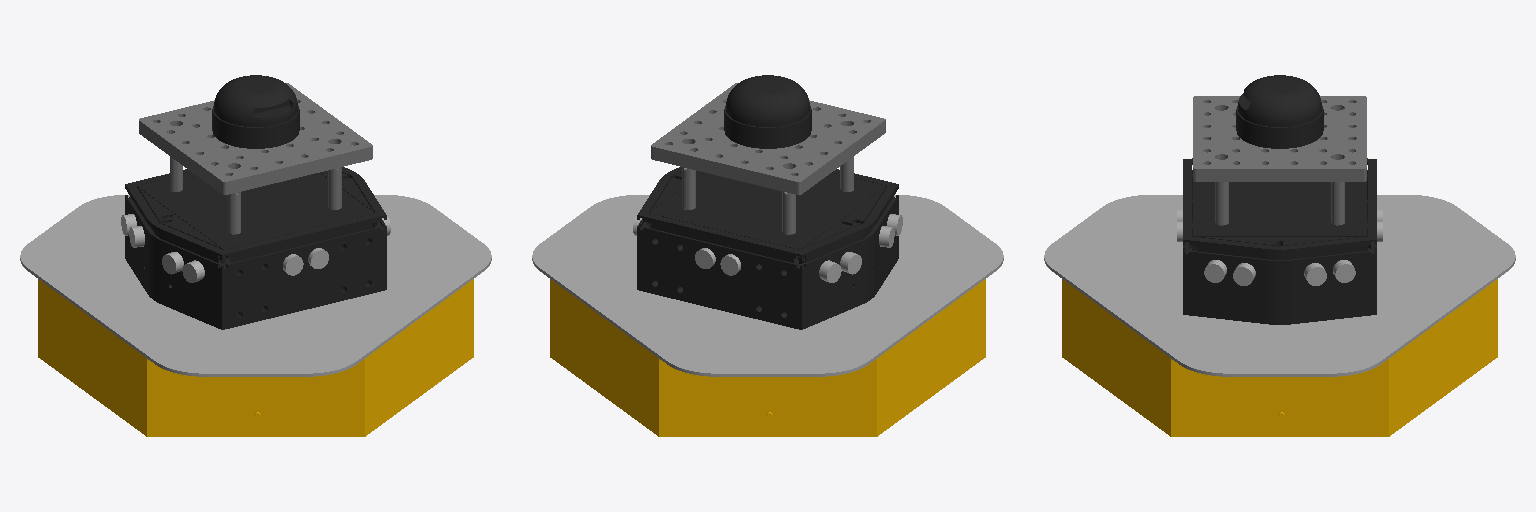
The robot description file, URDF, robot "urdfbot":
<?xml version="1.0"?>
<robot name="urdfbot">
        
	<material name="light_gray">
		<color rgba="0.7 0.7 0.7 1"/>
	</material>
	
	<material name="dark_gray">
		<color rgba="0.2 0.2 0.2 1"/>
	</material>
	
	<material name="yellow">
		<color rgba="1.0 0.76 0.04 1"/>
	</material>
	
	<material name="gray">
		<color rgba="0.5 0.5 0.5 1"/>
	</material>
	
	

  <link name="base_link">
    <visual>
	<origin rpy="0 0 0" xyz="0 0 0" />
      <geometry>
        <mesh filename="package://mobi_tri/meshes/01_chassis_bottom.stl" scale="0.001 0.001 0.001"/>
      </geometry>
	<material name="yellow"/>
    </visual>
  </link>
  
  <link name="chassis_top_link">
    <visual>
	<origin rpy="0 0 0" xyz="0 0 0" />
      <geometry>
        <mesh filename="package://mobi_tri/meshes/02_chassis_top.stl" scale="0.001 0.001 0.001"/>
      </geometry>
	<material name="light_gray"/>
    </visual>
  </link>
  
  <link name="housing_link">
    <visual>
	<origin rpy="0 0 0" xyz="0 0 0" />
      <geometry>
        <mesh filename="package://mobi_tri/meshes/03_housing.stl" scale="0.001 0.001 0.001"/>
      </geometry>
	<material name="dark_gray"/>
    </visual>
  </link>
  
  <link name="sonic1_link">
    <visual>
	<origin rpy="0 0 0" xyz="0 0 0" />
      <geometry>
        <mesh filename="package://mobi_tri/meshes/04_ultrasonic.stl" scale="0.001 0.001 0.001"/>
      </geometry>
	<material name="light_gray"/>
    </visual>
  </link>
  
  <link name="sonic2_link">
    <visual>
	<origin rpy="0 0 0" xyz="0 0 0" />
      <geometry>
        <mesh filename="package://mobi_tri/meshes/04_ultrasonic.stl" scale="0.001 0.001 0.001"/>
      </geometry>
	<material name="light_gray"/>
    </visual>
  </link>
  
  <link name="sonic3_link">
    <visual>
	<origin rpy="0 0 0" xyz="0 0 0" />
      <geometry>
        <mesh filename="package://mobi_tri/meshes/04_ultrasonic.stl" scale="0.001 0.001 0.001"/>
      </geometry>
	<material name="light_gray"/>
    </visual>
  </link>
  
  <link name="sonic4_link">
    <visual>
	<origin rpy="0 0 0" xyz="0 0 0" />
      <geometry>
        <mesh filename="package://mobi_tri/meshes/04_ultrasonic.stl" scale="0.001 0.001 0.001"/>
      </geometry>
	<material name="light_gray"/>
    </visual>
  </link>
  
  <link name="sonic5_link">
    <visual>
	<origin rpy="0 0 0" xyz="0 0 0" />
      <geometry>
        <mesh filename="package://mobi_tri/meshes/04_ultrasonic.stl" scale="0.001 0.001 0.001"/>
      </geometry>
	<material name="light_gray"/>
    </visual>
  </link>
  
  <link name="sonic6_link">
    <visual>
	<origin rpy="0 0 0" xyz="0 0 0" />
      <geometry>
        <mesh filename="package://mobi_tri/meshes/04_ultrasonic.stl" scale="0.001 0.001 0.001"/>
      </geometry>
	<material name="light_gray"/>
    </visual>
  </link>
  
  <link name="raspi_link">
    <visual>
	<origin rpy="0 0 0" xyz="0 0 0" />
      <geometry>
        <mesh filename="package://mobi_tri/meshes/05_raspi.stl" scale="0.001 0.001 0.001"/>
      </geometry>
	<material name="light_gray"/>
    </visual>
  </link>
  
  <link name="tower_link">
    <visual>
	<origin rpy="0 0 0" xyz="0 0 0" />
      <geometry>
        <mesh filename="package://mobi_tri/meshes/06_tower.stl" scale="0.001 0.001 0.001"/>
      </geometry>
	<material name="gray"/>
    </visual>
  </link>
  
  <link name="lidar_link">
    <visual>
	<origin rpy="0 0 0" xyz="0 0 0" />
      <geometry>
        <mesh filename="package://mobi_tri/meshes/07_lidar.stl" scale="0.001 0.001 0.001"/>
      </geometry>
	<material name="dark_gray"/>
    </visual>
  </link>
  
  <link name="wheel_1_link">
    <visual>
	<origin rpy="0 0 0" xyz="0 0 0" />
      <geometry>
        <mesh filename="package://mobi_tri/meshes/08_wheel.stl" scale="0.001 0.001 0.001"/>
      </geometry>
	<material name="gray"/>
    </visual>
  </link>
  
  <link name="wheel_2_link">
    <visual>
	<origin rpy="0 0 0" xyz="0 0 0" />
      <geometry>
        <mesh filename="package://mobi_tri/meshes/08_wheel.stl" scale="0.001 0.001 0.001"/>
      </geometry>
	<material name="gray"/>
    </visual>
  </link>
  
  <link name="wheel_3_link">
    <visual>
	<origin rpy="0 0 0" xyz="0 0 0" />
      <geometry>
        <mesh filename="package://mobi_tri/meshes/08_wheel.stl" scale="0.001 0.001 0.001"/>
      </geometry>
	<material name="gray"/>
    </visual>
  </link>
  

  
  <joint name="base_link_to_chassis_top_link_joint" type="fixed">
        <origin xyz="0 0 0.075" rpy="0 0 0"/>
        <parent link="base_link"/>
        <child link="chassis_top_link"/>
  </joint>
  
  <joint name="chassis_top_link_to_housing_link_joint" type="fixed">
        <origin xyz="0 0 0.003" rpy="0 0 0"/>
        <parent link="chassis_top_link"/>
        <child link="housing_link"/>
  </joint>
  
  <joint name="housing_link_to_sonic1_link_joint" type="fixed">
        <origin xyz="0 0.0885 0.047" rpy="1.5708 0 0"/>
        <parent link="housing_link"/>
        <child link="sonic1_link"/>
  </joint>
  
  <joint name="housing_link_to_sonic2_link_joint" type="fixed">
        <origin xyz="0 -0.0885 0.047" rpy="-1.5708 0 0"/>
        <parent link="housing_link"/>
        <child link="sonic2_link"/>
  </joint>
  
  <joint name="housing_link_to_sonic3_link_joint" type="fixed">
        <origin xyz="0.092 0.04175 0.047" rpy="1.5708 0 1.8151"/>
        <parent link="housing_link"/>
        <child link="sonic3_link"/>
  </joint>
  
  <joint name="housing_link_to_sonic4_link_joint" type="fixed">
        <origin xyz="0.092 -0.04175 0.047" rpy="1.5708 0 1.3264"/>
        <parent link="housing_link"/>
        <child link="sonic4_link"/>
  </joint>
  
  <joint name="housing_link_to_sonic5_link_joint" type="fixed">
        <origin xyz="-0.092 0.04175 0.047" rpy="1.5708 0 -1.8151"/>
        <parent link="housing_link"/>
        <child link="sonic5_link"/>
  </joint>
  
  <joint name="housing_link_to_sonic6_link_joint" type="fixed">
        <origin xyz="-0.092 -0.04175 0.047" rpy="1.5708 0 -1.3264"/>
        <parent link="housing_link"/>
        <child link="sonic6_link"/>
  </joint>
  
  <joint name="housing_link_to_raspi_link_joint" type="fixed">
        <origin xyz="0 0 0.0715" rpy="0 0 0"/>
        <parent link="housing_link"/>
        <child link="raspi_link"/>
  </joint>
  
  <joint name="housing_link_to_tower_link_joint" type="fixed">
        <origin xyz="0 0 0.0715" rpy="0 0 0"/>
        <parent link="housing_link"/>
        <child link="tower_link"/>
  </joint>
  
  <joint name="tower_link_to_lidar_link_joint" type="fixed">
        <origin xyz="0 0 0.0656" rpy="0 0 0"/>
        <parent link="tower_link"/>
        <child link="lidar_link"/>
  </joint>
  
  <joint name="base_link_to_wheel_1_link_joint" type="continuous">
        <origin xyz="0.163 0 0.02065" rpy="0 1.5708 0"/>
        <parent link="base_link"/>
        <child link="wheel_1_link"/>
		<axis xyz="0 0 1"/>
  </joint>
  <joint name="base_link_to_wheel_2_link_joint" type="continuous">
        <origin xyz="-0.081495 -0.141159 0.02065" rpy="0 1.5708 -2.0943"/>
        <parent link="base_link"/>
        <child link="wheel_2_link"/>
		<axis xyz="0 0 1"/>
  </joint>
  <joint name="base_link_to_wheel_3_link_joint" type="continuous">
        <origin xyz="-0.081495 0.141159 0.02065" rpy="0 1.5708 2.0943"/>
        <parent link="base_link"/>
        <child link="wheel_3_link"/>
		<axis xyz="0 0 1"/>
  </joint>
  
  

</robot>

--- What the picture shows (computed from the rendered views, not written in the file) ---
The picture shows the robot from 3 angles, left to right: view 1: azimuth 30°, elevation 25°; view 2: azimuth 150°, elevation 25°; view 3: azimuth 270°, elevation 25°; orthographic projection.
Robot: urdfbot — 15 links, 14 joints (3 continuous, 11 fixed); root link base_link; default pose: all joints at 0.
Visible links, largest first — view 1: chassis_top_link, base_link, housing_link, tower_link, lidar_link, sonic6_link, sonic2_link, sonic5_link; view 2: chassis_top_link, base_link, housing_link, tower_link, lidar_link, sonic5_link, sonic1_link, sonic6_link; view 3: chassis_top_link, base_link, housing_link, tower_link, lidar_link, sonic3_link, sonic4_link.
Link boxes in pixels (x1,y1,x2,y2): chassis_top_link: [20, 195, 491, 376]; base_link: [38, 279, 473, 436]; housing_link: [125, 167, 386, 329]; tower_link: [139, 83, 372, 234]; lidar_link: [212, 75, 299, 148]; sonic6_link: [162, 252, 204, 282]; sonic2_link: [283, 248, 328, 275]; sonic5_link: [121, 214, 144, 247]; chassis_top_link: [532, 195, 1003, 376]; base_link: [550, 279, 985, 436]; housing_link: [637, 167, 898, 329]; tower_link: [651, 83, 885, 234]; lidar_link: [724, 75, 811, 148]; sonic5_link: [819, 252, 861, 282]; sonic1_link: [695, 248, 740, 275]; sonic6_link: [879, 214, 902, 247]; chassis_top_link: [1044, 195, 1515, 376]; base_link: [1062, 279, 1497, 436]; housing_link: [1183, 158, 1376, 324]; tower_link: [1193, 96, 1366, 225]; lidar_link: [1236, 75, 1323, 148]; sonic3_link: [1304, 260, 1355, 285]; sonic4_link: [1204, 260, 1255, 285].
Bounding box of the posed robot: 0.365 × 0.4058 × 0.2581 m (x, y, z).
Meshes: 8 distinct files referenced, 11 mesh visuals loaded (6 binary STL); not drawn: 4 (reference not matched to a file when rendering).